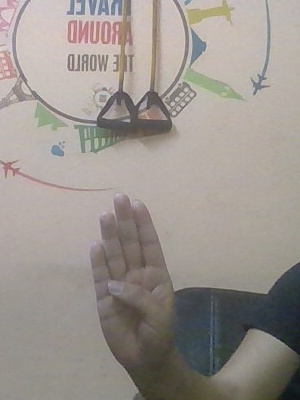B: (84, 186, 185, 368)
